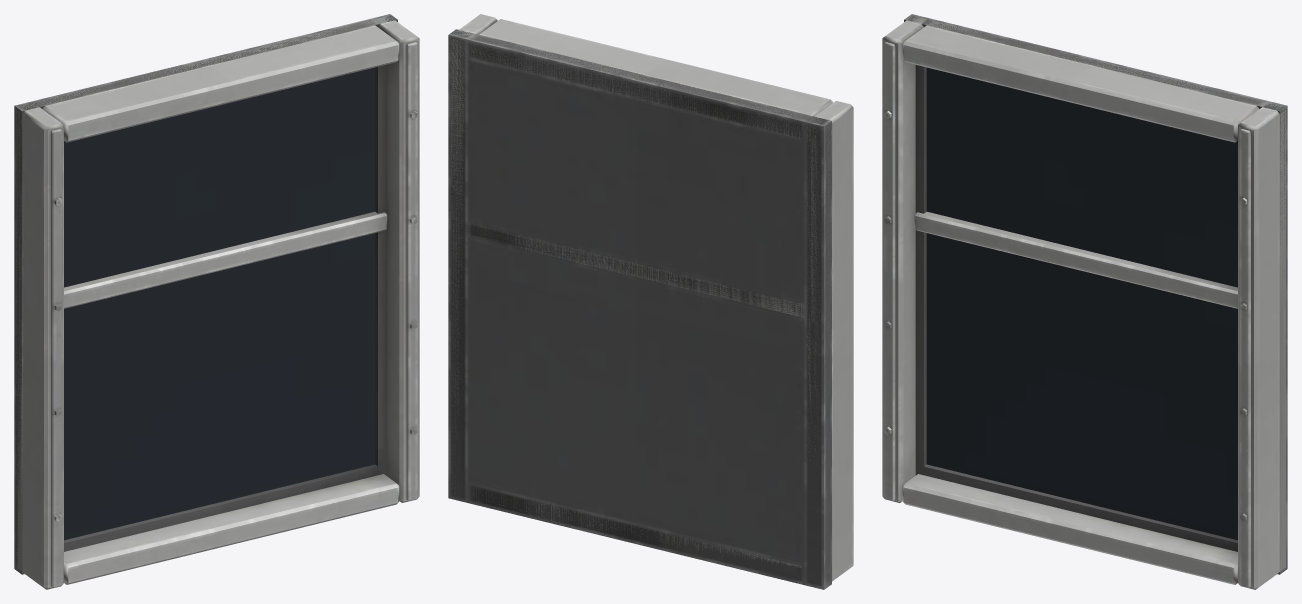
The model's file is pane.glb.
3 renders of one model, left to right at view 1: azimuth 30°, elevation 25°; view 2: azimuth 150°, elevation 25°; view 3: azimuth 330°, elevation 25°, orthographic.
Parts seen in each view (by area): view 1: pane; view 2: pane; view 3: pane.
Part boxes in pixels (x1,y1,x2,y2): pane: [14, 14, 419, 589]; pane: [448, 14, 853, 589]; pane: [882, 14, 1287, 589].
Size of the model in its own units: 1.12 by 1.32 by 0.179.
Materials: 1 (1 with a texture image).
